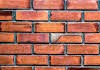brick: (15, 10, 49, 21), (50, 10, 83, 21), (16, 33, 49, 43), (16, 55, 49, 65), (51, 33, 82, 43), (1, 45, 32, 55), (67, 45, 98, 55), (66, 23, 100, 32), (32, 1, 65, 10), (66, 1, 99, 10), (33, 23, 66, 32), (49, 56, 82, 65), (33, 45, 65, 54), (1, 22, 32, 31), (1, 1, 31, 9), (84, 10, 100, 21), (82, 56, 100, 65), (84, 34, 100, 43), (35, 66, 67, 70), (1, 34, 15, 43), (1, 66, 32, 70), (1, 56, 14, 65), (1, 11, 13, 20)
